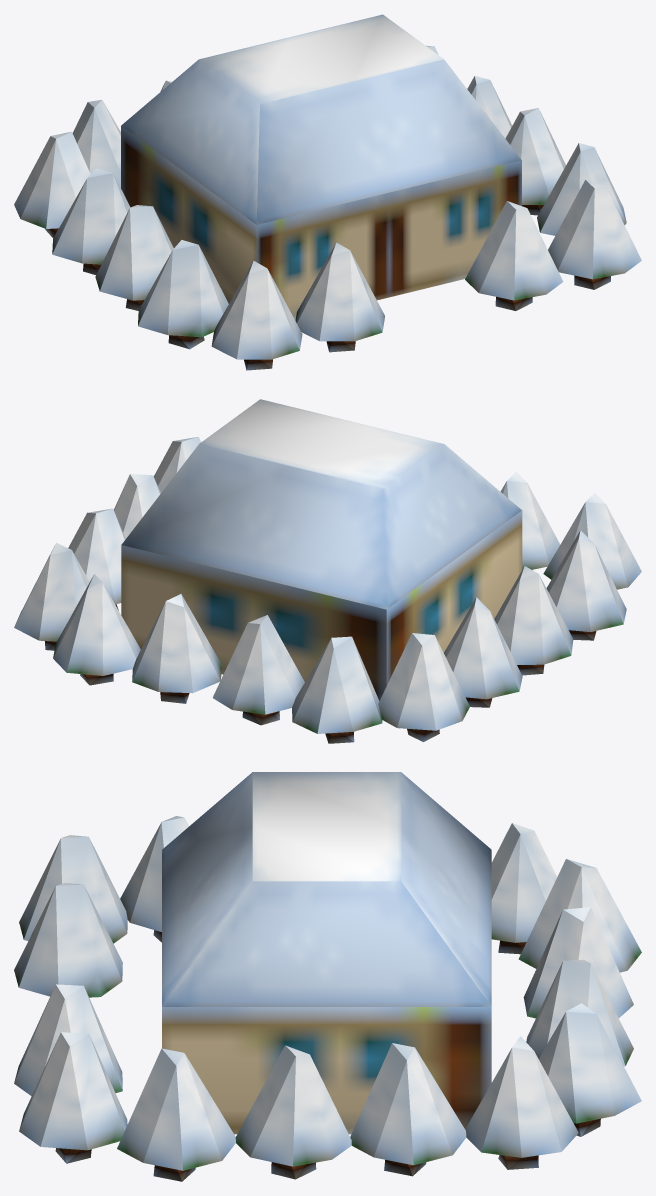
File: Poly_World_Map_Town_House_03_Snow.obj
The picture shows the model from 3 angles, top to bottom: view 1: azimuth 30°, elevation 25°; view 2: azimuth 150°, elevation 25°; view 3: azimuth 270°, elevation 25°; orthographic projection. The views are drawn at different scales.
Visible parts, largest first — view 1: Cube.002_Cube.001, Cube.001_Cube.002; view 2: Cube.002_Cube.001, Cube.001_Cube.002; view 3: Cube.002_Cube.001, Cube.001_Cube.002.
Part boxes in pixels (x1=…): Cube.002_Cube.001: x1=121, y1=14, x2=521, y2=320; Cube.001_Cube.002: x1=14, y1=45, x2=641, y2=370; Cube.002_Cube.001: x1=121, y1=399, x2=522, y2=700; Cube.001_Cube.002: x1=14, y1=437, x2=641, y2=743; Cube.002_Cube.001: x1=162, y1=772, x2=491, y2=1134; Cube.001_Cube.002: x1=14, y1=816, x2=641, y2=1181.
Bounding box in the file's own units: 1.08 × 0.3999 × 0.9937.
1 material, 1 textured.
